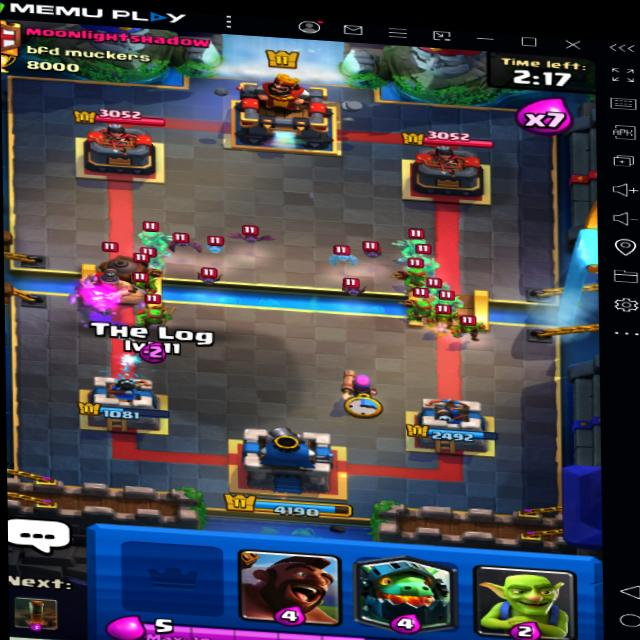bats: (185, 263, 238, 293), (162, 229, 209, 253), (233, 223, 270, 249), (357, 236, 386, 265), (339, 273, 366, 299)
goblin: (420, 301, 462, 334), (447, 315, 491, 340), (134, 268, 161, 296)
mighty-miner: (74, 243, 155, 322)
spear-goblin: (134, 296, 176, 332), (394, 260, 434, 291), (406, 291, 434, 321)
